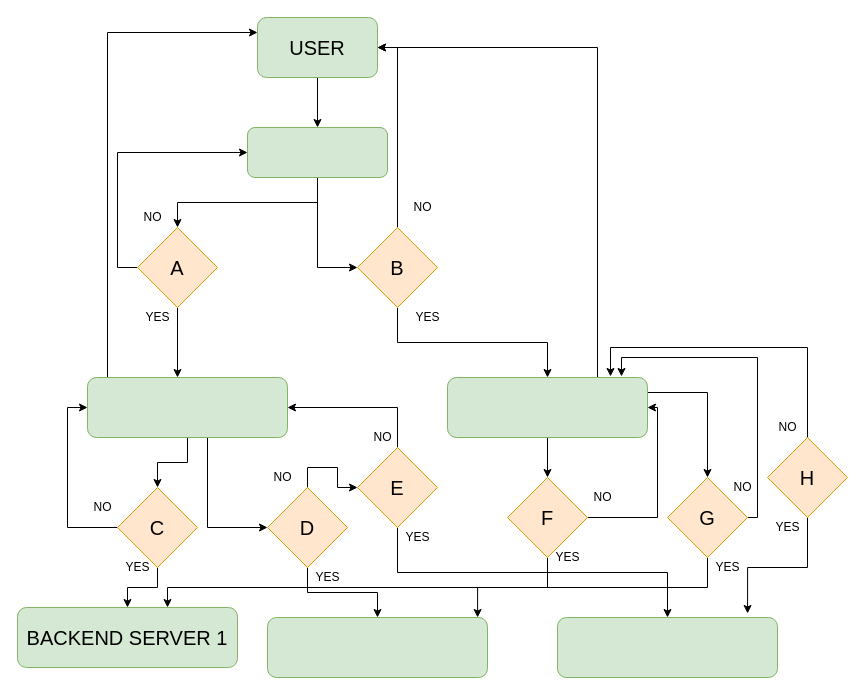
The diagram is 865 pixels wide and 695 high, and some of its shapes have lost their labels. The box of each missing label's shape, as (x1, y1, x2, y2) in pixels:
BACKEND SERVER 2: (266, 616, 488, 678)
BACKEND SERVER 3: (556, 616, 778, 678)
KEEPALIVED VIP: (246, 126, 388, 178)
LOADBALANCER 1: (86, 376, 288, 438)
LOADBALANCER 2: (446, 376, 648, 438)
